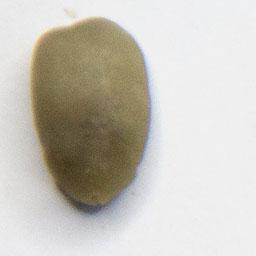peaberry: (26, 14, 157, 213)
